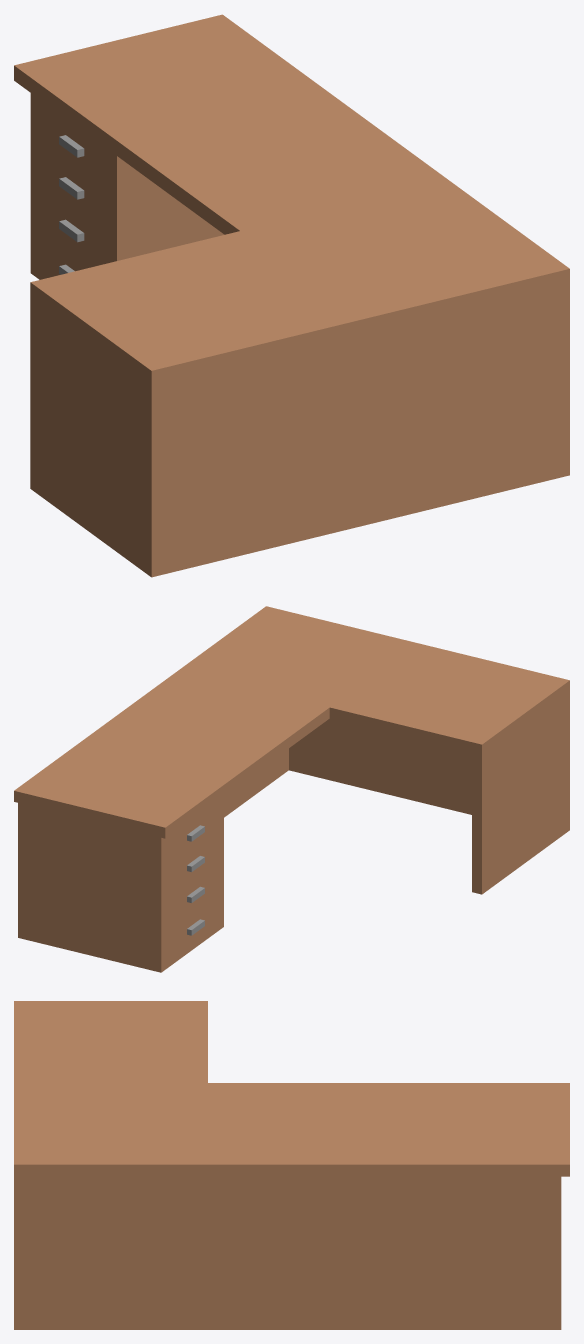
The model's file is Deks.fbx.
3 renders of one model, top to bottom at view 1: azimuth 30°, elevation 25°; view 2: azimuth 150°, elevation 25°; view 3: azimuth 270°, elevation 25°, orthographic. The views are drawn at different scales.
Parts seen in each view (by area): view 1: Desk; view 2: Desk; view 3: Desk.
Part boxes in pixels (x1,y1,x2,y2): Desk: [14, 14, 569, 577]; Desk: [14, 606, 569, 972]; Desk: [14, 1001, 569, 1329].
Bounding box in the file's own units: 424 × 200 × 610.
